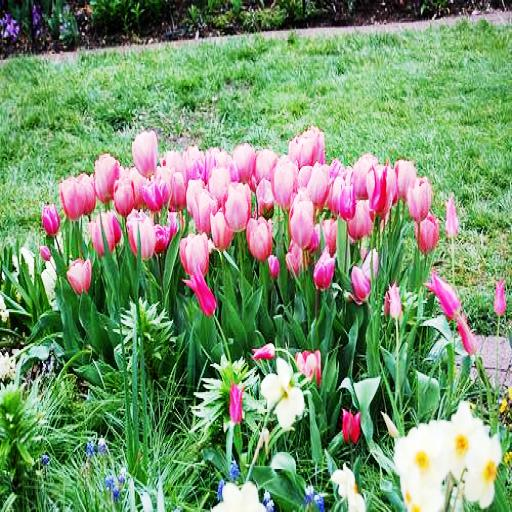tulip: (268, 152, 299, 209), (126, 209, 158, 261), (221, 183, 252, 231), (178, 231, 211, 275), (289, 194, 315, 246), (88, 210, 117, 256), (94, 152, 120, 202), (406, 174, 432, 223), (191, 186, 217, 232), (60, 175, 86, 220), (246, 218, 272, 262), (132, 131, 158, 175), (230, 142, 256, 182), (66, 256, 93, 294), (313, 246, 335, 288)
